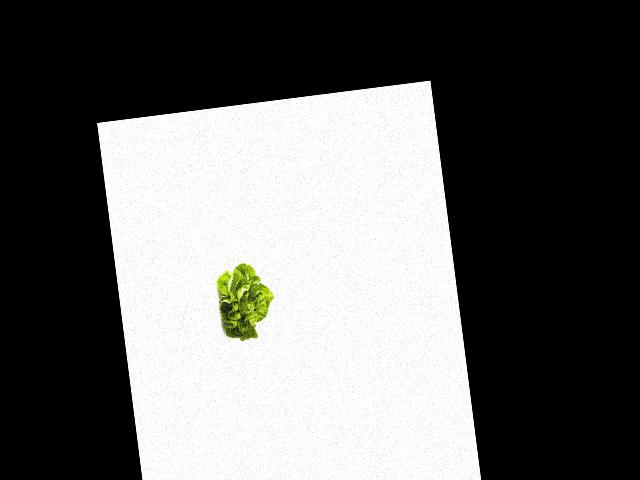lettuce: (213, 257, 278, 344)
